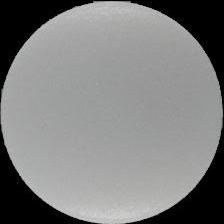50383-172: (0, 0, 224, 224)
